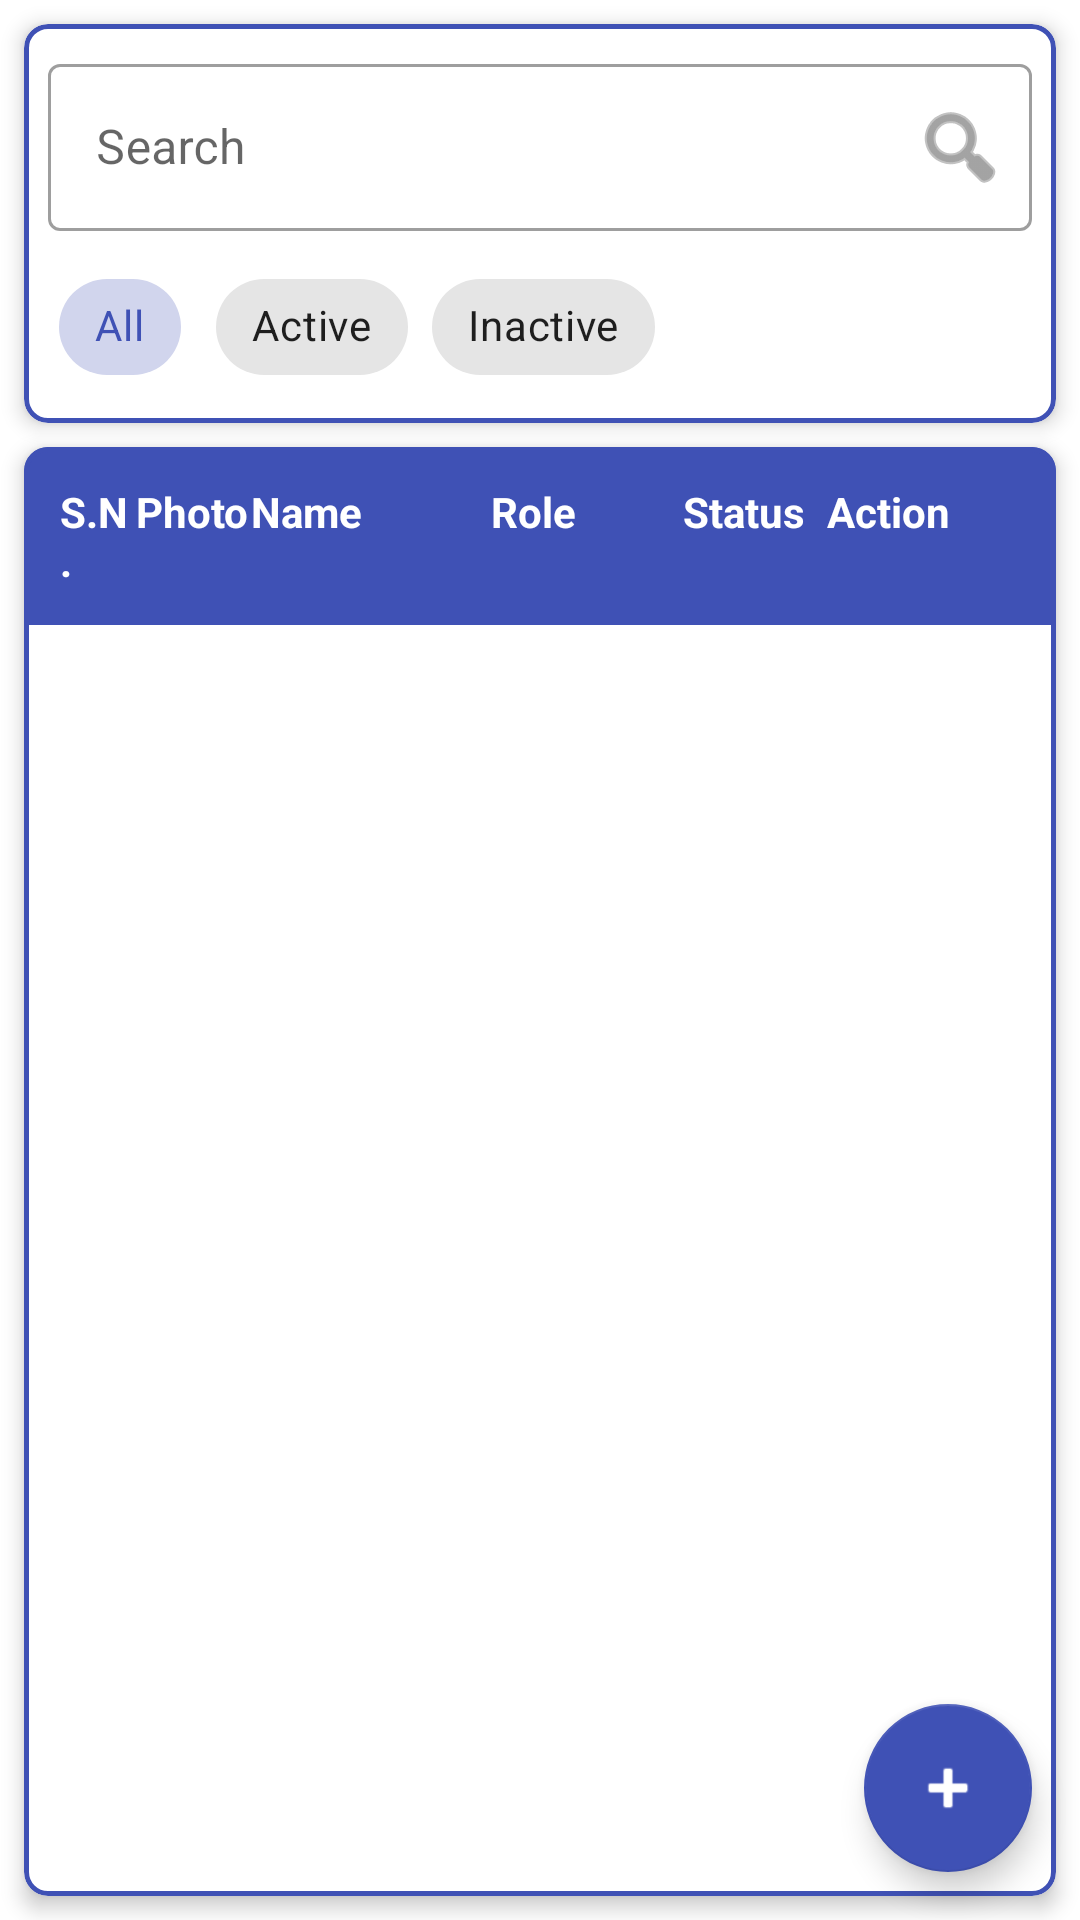

Icons on this 1080 × 1920 Android screen, each with the point to tap as (x=x, y=y):
Add Worker: (x=948, y=1788)
